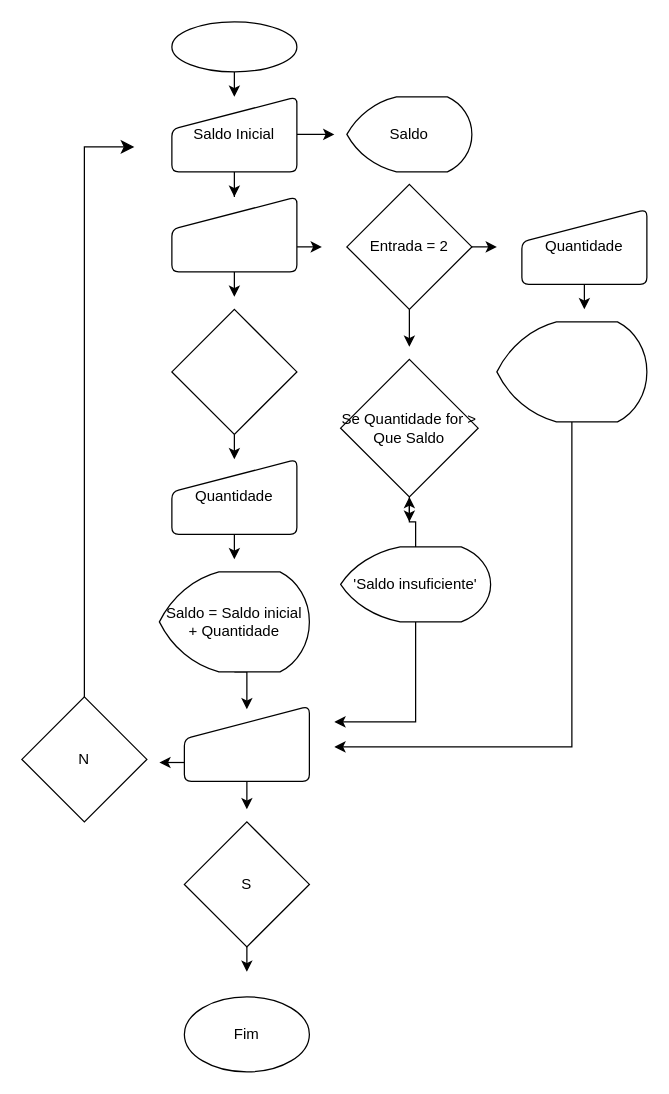
The diagram is 669 pixels wide and 1094 high, and some of its shapes have lost their labels. The centre of each missing label's shape, as x and y in pixels:
Encerrar? (S/N): (x=246, y=743)
Entrada = 1: (x=234, y=371)
Inicio: (x=234, y=46)
Saldo = Saldo inicial - Quantidade: (x=571, y=371)
Tipo de entrada: (x=234, y=234)
